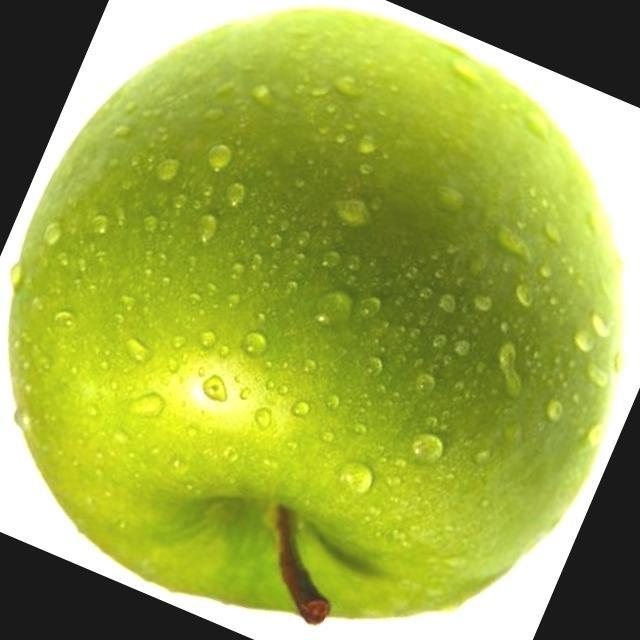Green Apple: (7, 5, 625, 625)
